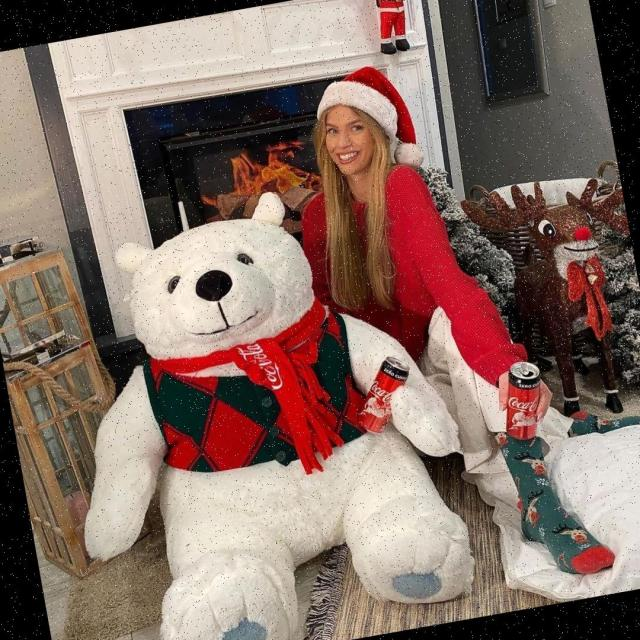coca-cola: (347, 346, 423, 442), (491, 358, 554, 446)
